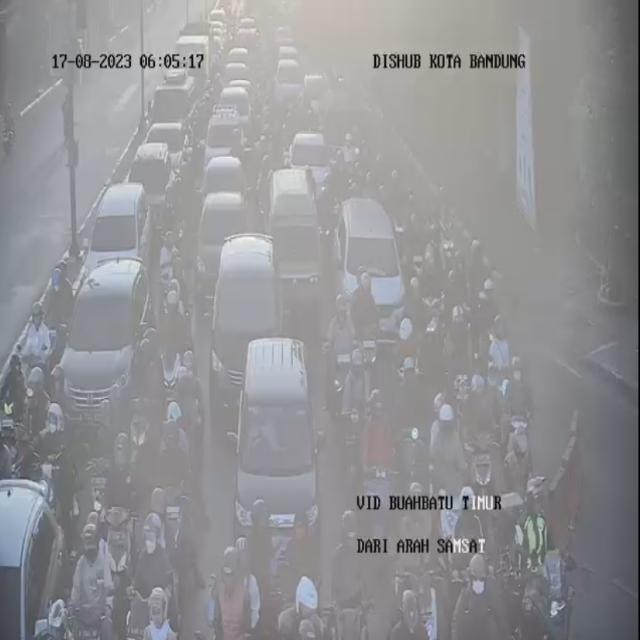cars: (234, 327, 317, 549), (58, 256, 152, 439), (210, 227, 280, 413), (337, 192, 405, 348), (267, 164, 326, 324), (86, 181, 150, 287), (0, 479, 59, 573), (264, 570, 338, 640), (192, 188, 242, 288), (134, 140, 180, 248), (286, 124, 334, 188), (200, 154, 248, 212), (219, 84, 259, 152), (205, 108, 244, 172), (150, 119, 190, 177), (219, 46, 255, 96), (226, 38, 256, 76)
motorcycle: (506, 469, 574, 640), (152, 401, 204, 605), (392, 481, 442, 640), (358, 378, 404, 543), (324, 508, 372, 640), (457, 366, 498, 520), (426, 394, 466, 551), (495, 352, 535, 501), (83, 388, 120, 544), (208, 530, 259, 640), (394, 355, 428, 512), (73, 512, 115, 638), (134, 518, 178, 638), (447, 546, 502, 640), (340, 342, 370, 499), (106, 421, 141, 553), (446, 482, 487, 588), (166, 281, 196, 408), (419, 250, 445, 381), (0, 338, 26, 466), (20, 301, 48, 407), (45, 265, 75, 361), (328, 300, 356, 400), (157, 229, 184, 325), (446, 304, 471, 404), (170, 345, 202, 422), (476, 274, 499, 377), (391, 577, 428, 640), (136, 591, 182, 640), (446, 250, 469, 330), (44, 402, 71, 466), (68, 602, 112, 640), (121, 587, 152, 640), (489, 320, 512, 388), (45, 599, 81, 640)
truck: (145, 0, 212, 125)
